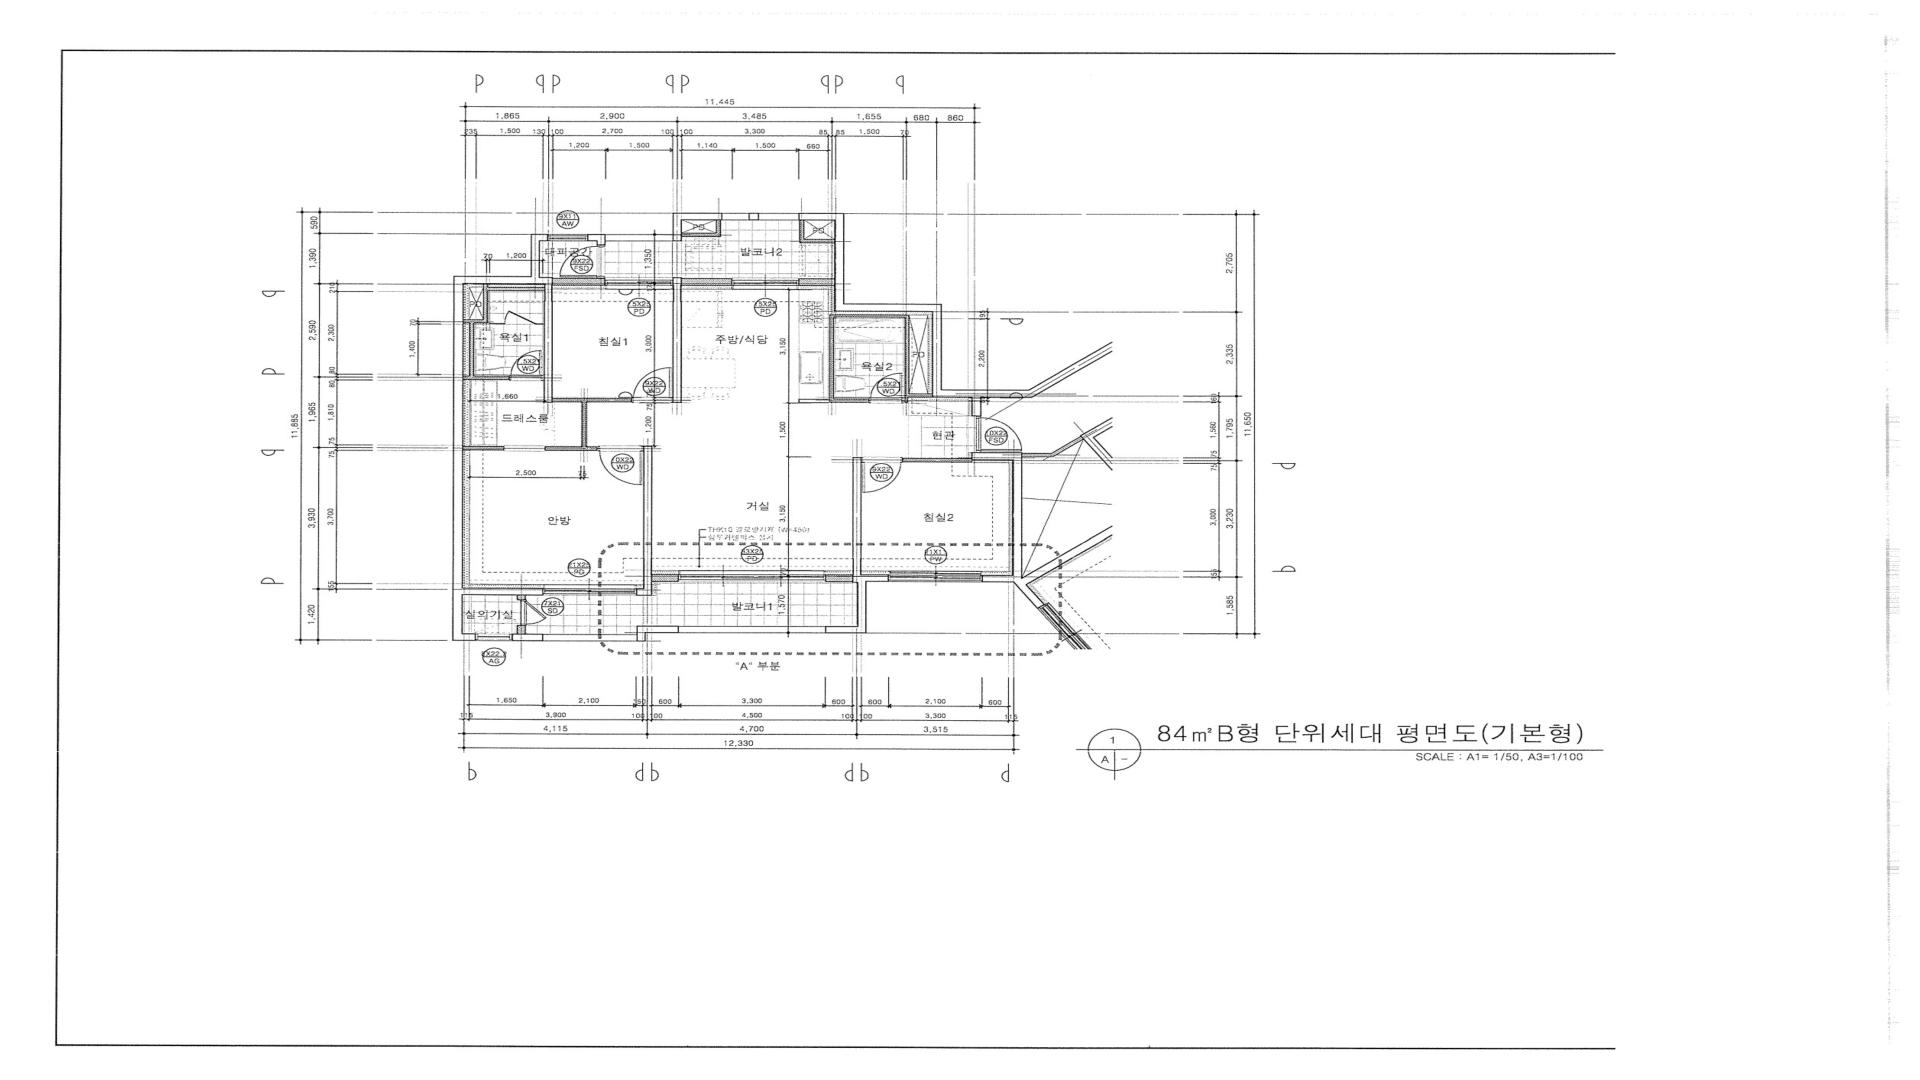door: (597, 446, 644, 485), (976, 417, 1023, 452), (861, 456, 903, 496), (630, 367, 673, 404), (559, 245, 605, 277), (509, 349, 543, 381), (869, 373, 903, 404), (521, 600, 551, 625)
wall: (452, 235, 553, 641), (799, 214, 982, 417), (799, 314, 932, 404), (825, 456, 889, 633), (463, 285, 543, 380), (673, 277, 732, 404), (636, 446, 679, 596), (972, 452, 1022, 582), (545, 397, 632, 451), (673, 212, 723, 241), (799, 220, 835, 244), (682, 220, 721, 237), (637, 625, 679, 641), (553, 278, 605, 286), (902, 458, 972, 463), (798, 278, 835, 286), (512, 633, 543, 641), (587, 233, 605, 245), (463, 446, 504, 451), (825, 575, 852, 582), (748, 212, 760, 220), (516, 625, 526, 633), (517, 596, 526, 600)
window: (679, 570, 825, 582), (679, 625, 825, 633), (543, 584, 636, 596), (889, 571, 982, 582), (605, 278, 673, 290), (732, 278, 798, 290), (543, 633, 637, 641), (605, 233, 673, 241), (758, 212, 799, 220), (549, 233, 587, 241), (476, 633, 512, 641), (723, 212, 749, 220)
